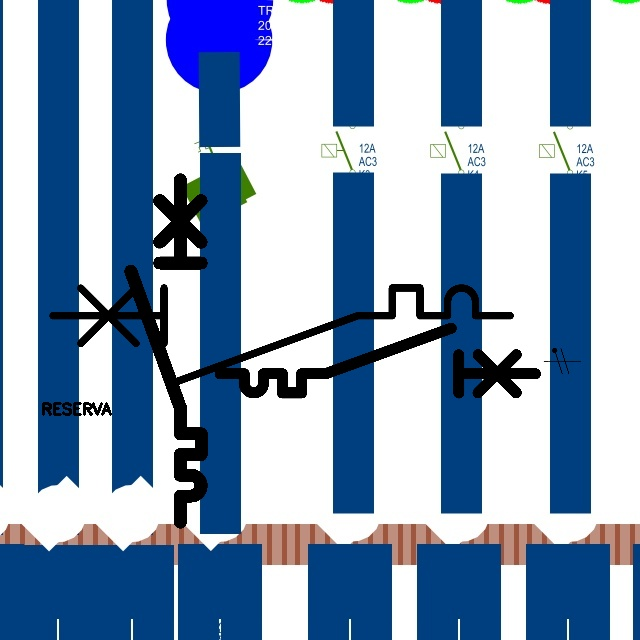interruptor_termomagnetico: (41, 276, 522, 394), (122, 171, 210, 531), (212, 320, 543, 401)
